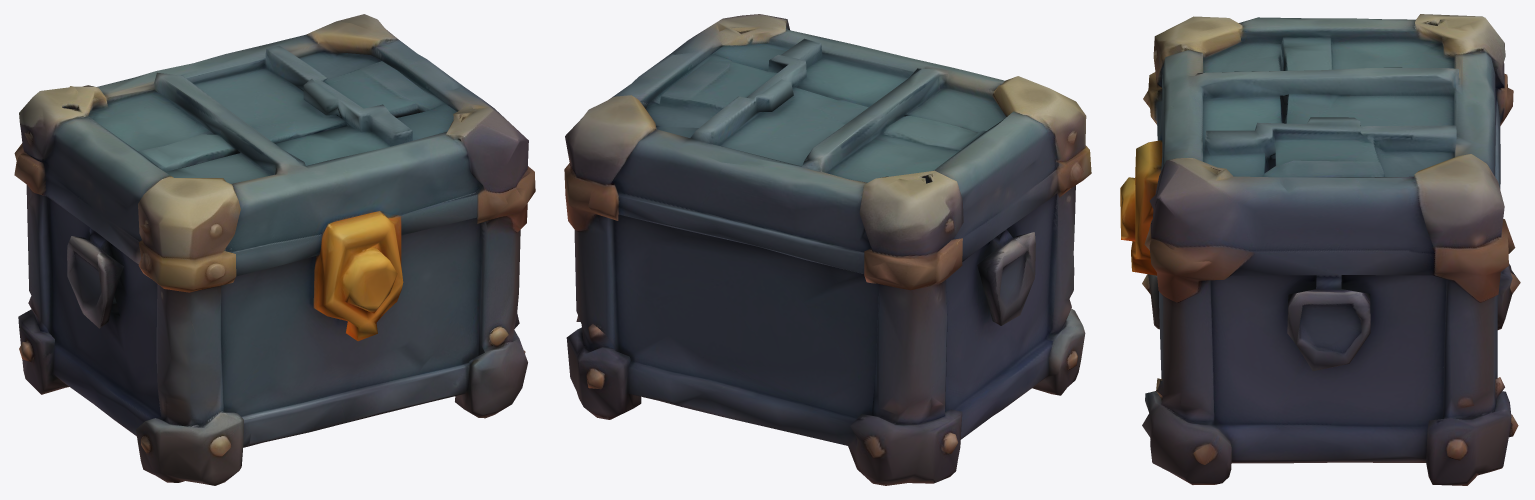
File: utility_legendary_item_box_3000.glb
3 views of the same model, side by side, from view 1: azimuth 30°, elevation 25°; view 2: azimuth 150°, elevation 25°; view 3: azimuth 270°, elevation 25° (orthographic). The views are drawn at different scales.
Visible parts, largest first — view 1: tripo_node_90fdcc08-f1c4-4a39-b12c-88ffb744f2c5; view 2: tripo_node_90fdcc08-f1c4-4a39-b12c-88ffb744f2c5; view 3: tripo_node_90fdcc08-f1c4-4a39-b12c-88ffb744f2c5.
Part boxes in pixels (<box>): tripo_node_90fdcc08-f1c4-4a39-b12c-88ffb744f2c5: <box>14,14,535,485</box>; tripo_node_90fdcc08-f1c4-4a39-b12c-88ffb744f2c5: <box>564,14,1091,485</box>; tripo_node_90fdcc08-f1c4-4a39-b12c-88ffb744f2c5: <box>1120,14,1520,485</box>.
Size of the model in its own units: 0.9811 by 0.7103 by 0.8483.
Materials: 1 (1 with a texture image).
